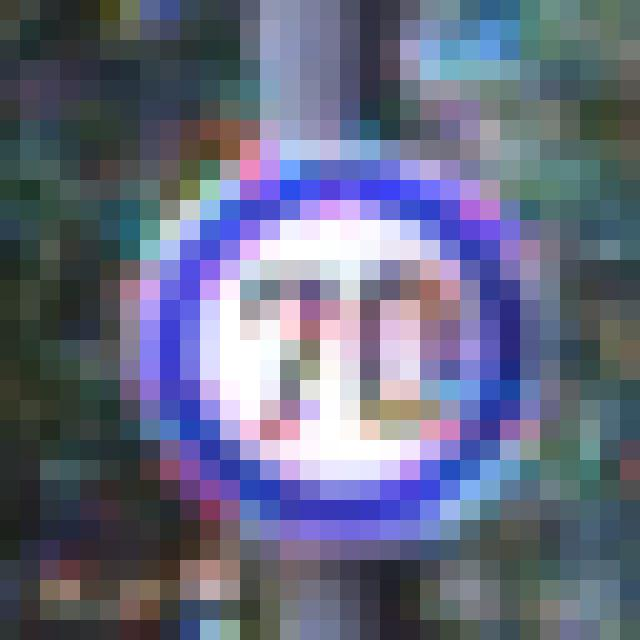SPEED LIMIT 70: (146, 181, 546, 531)
